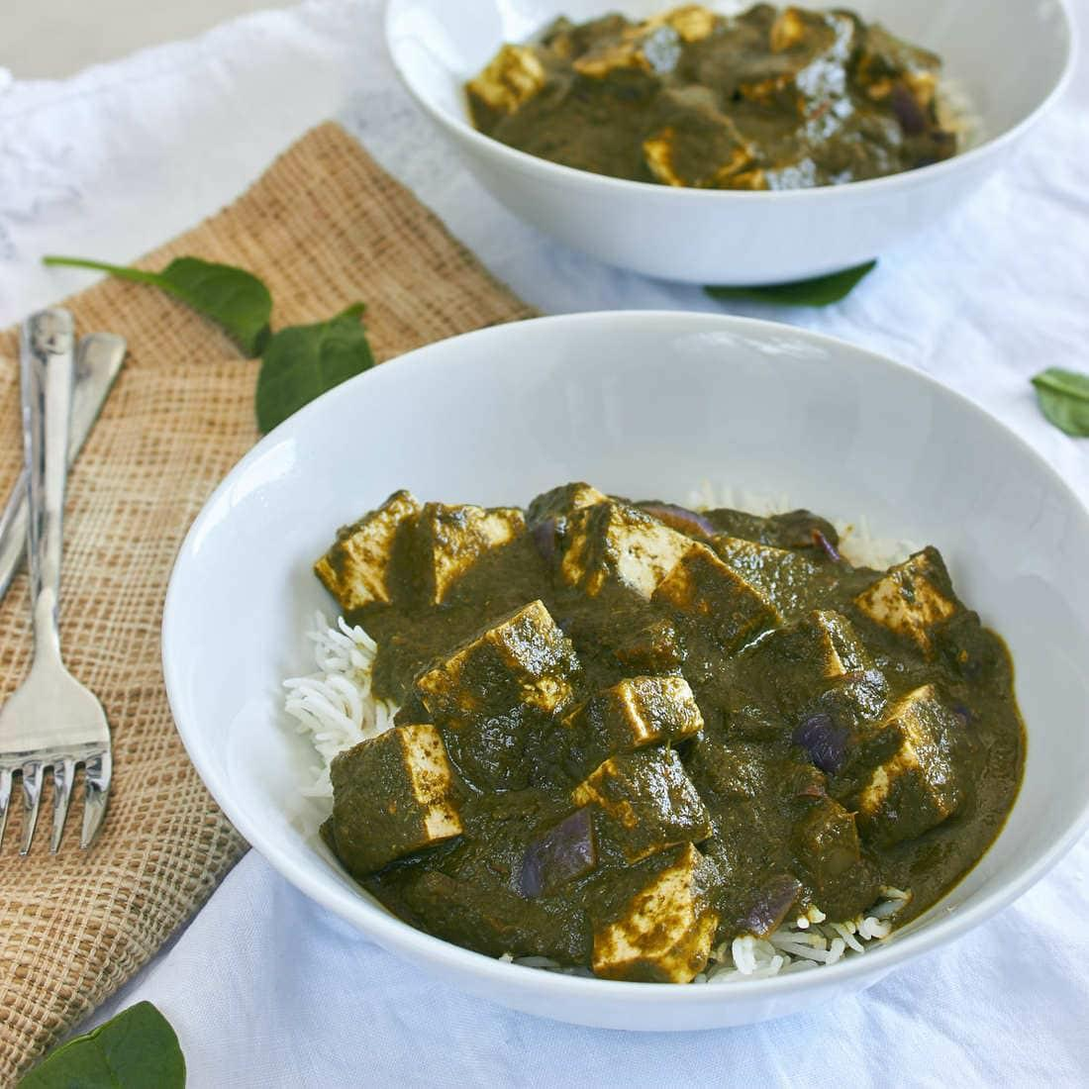PalakPaneer: (305, 481, 1021, 983), (466, 0, 968, 192)
